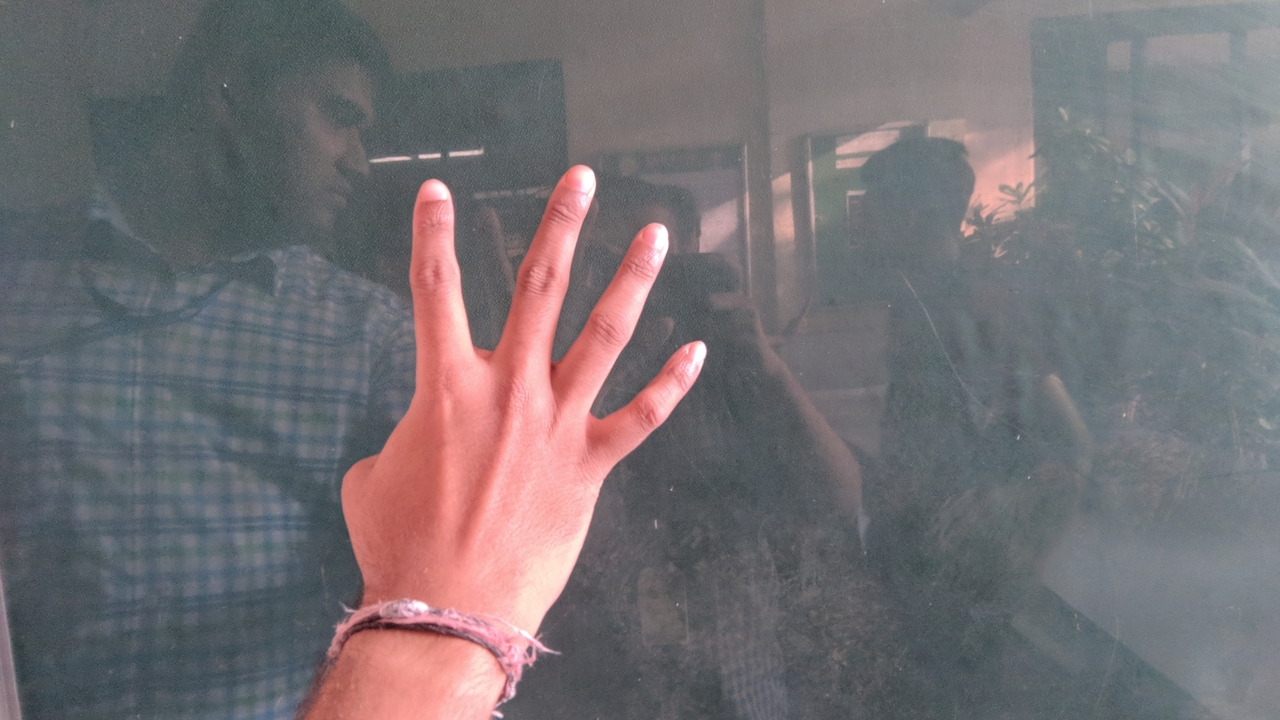fingertip: (542, 156, 602, 214), (650, 336, 712, 386), (620, 212, 676, 266), (404, 172, 454, 220)
